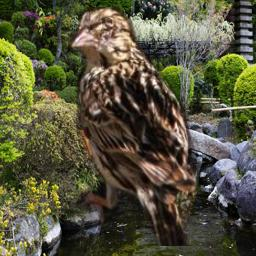Sparrow: (68, 7, 198, 246)
